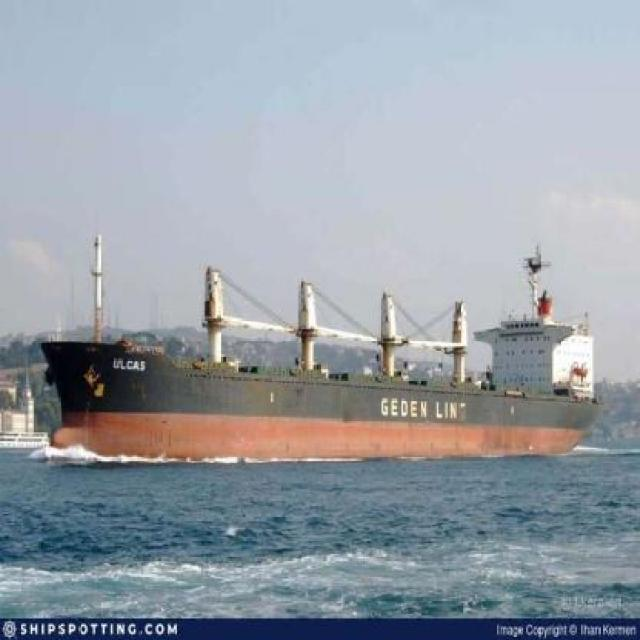ship: (34, 215, 608, 463)
